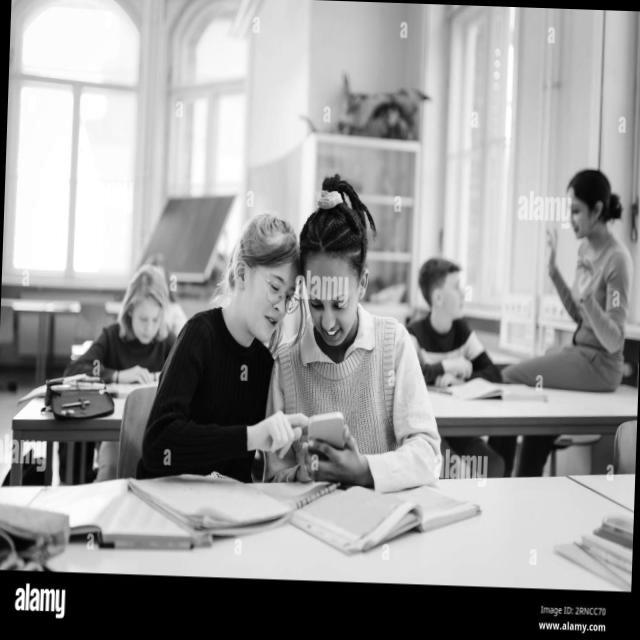phone: (305, 410, 346, 459)
